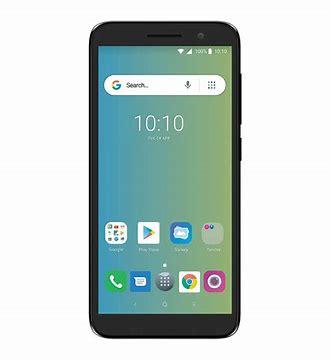Smart Phone: (89, 20, 242, 340)
